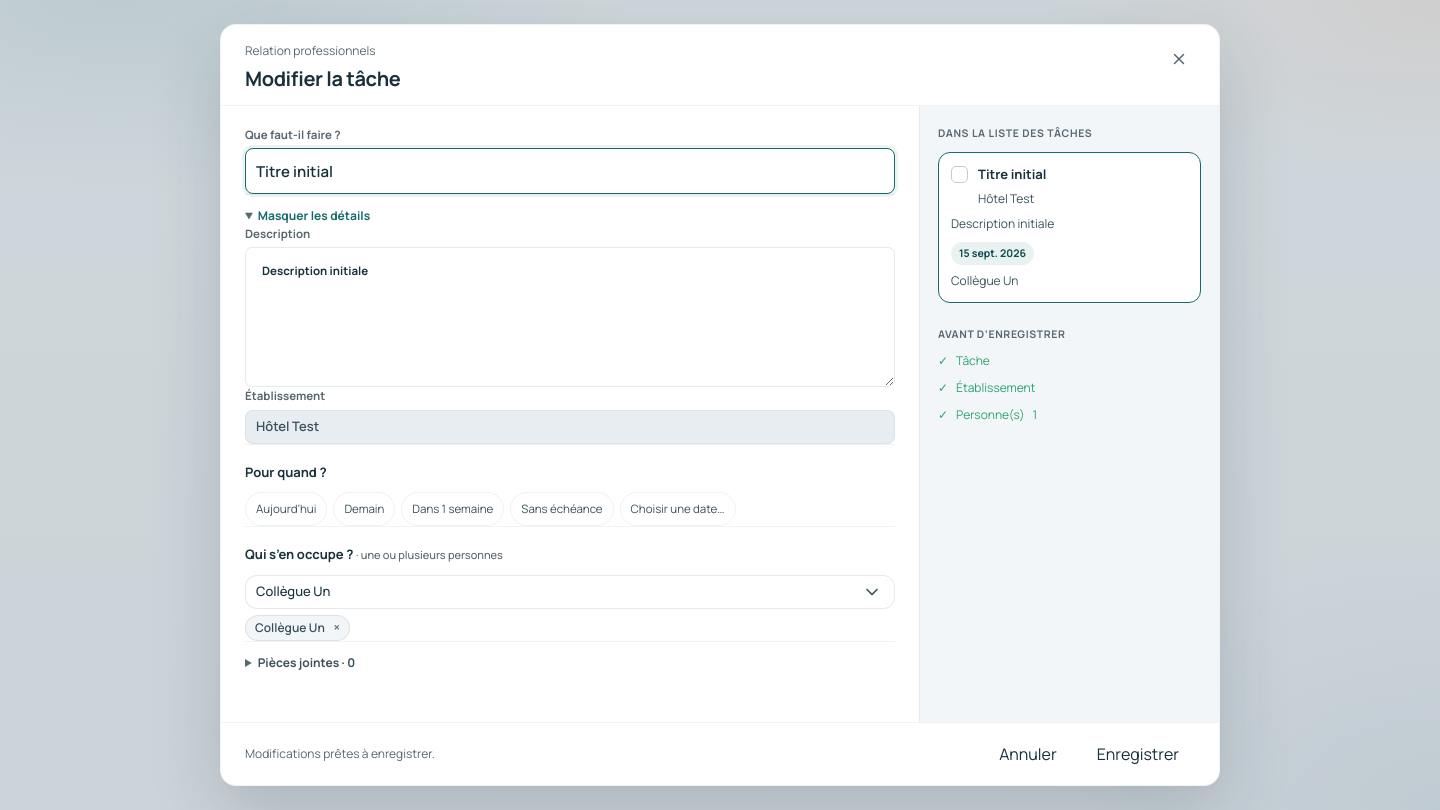
Test: CrmTaskModal — pièces jointes › édition : ouvre la section repliée pour afficher la liste
The width and height of the screenshot is (1440, 810).
Click the heading "Pièces jointes · 0". click: (300, 662)
box: x1=245 y1=654 x2=355 y2=672
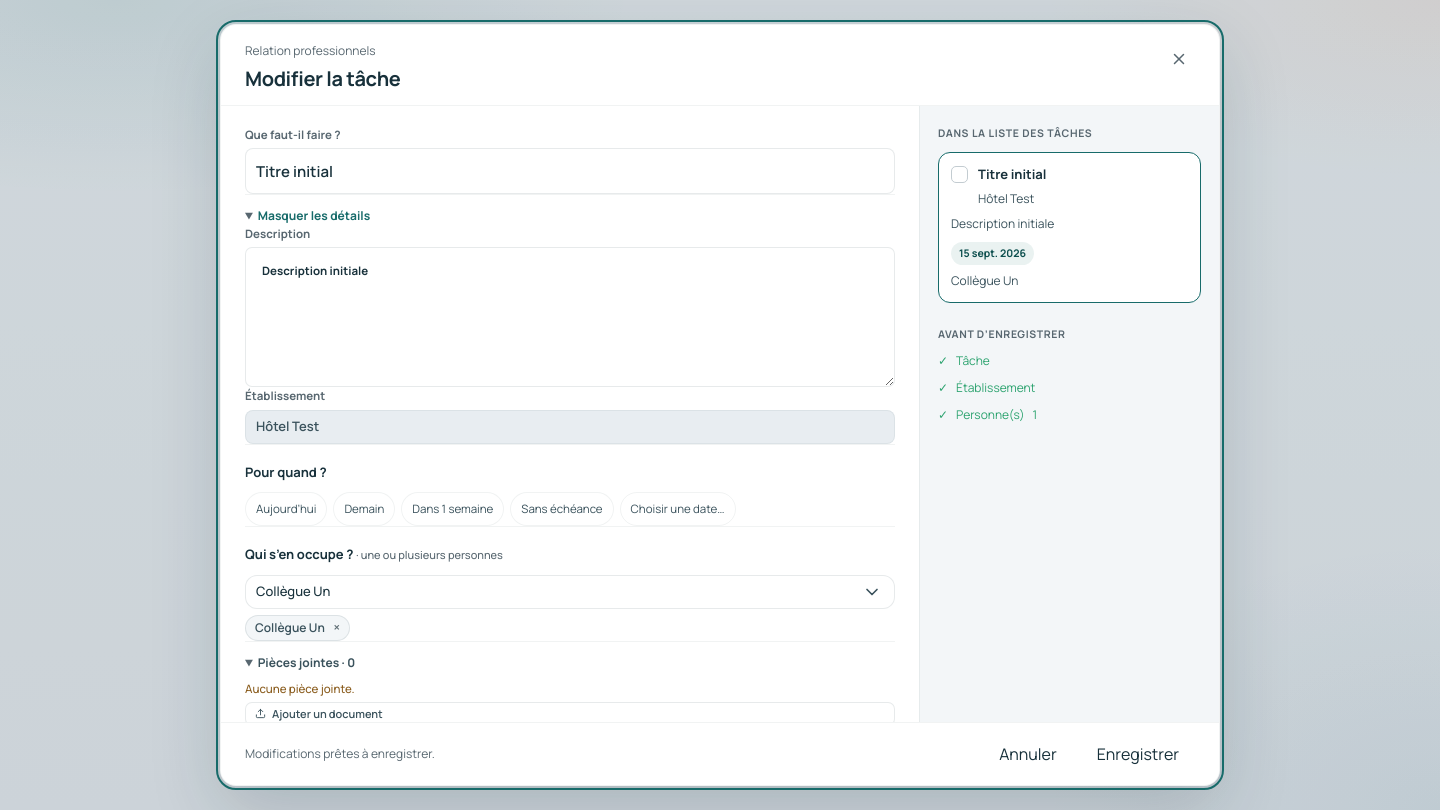
expect the list item "Aucune pièce jointe." is shown: met, box x1=245 y1=680 x2=355 y2=696
